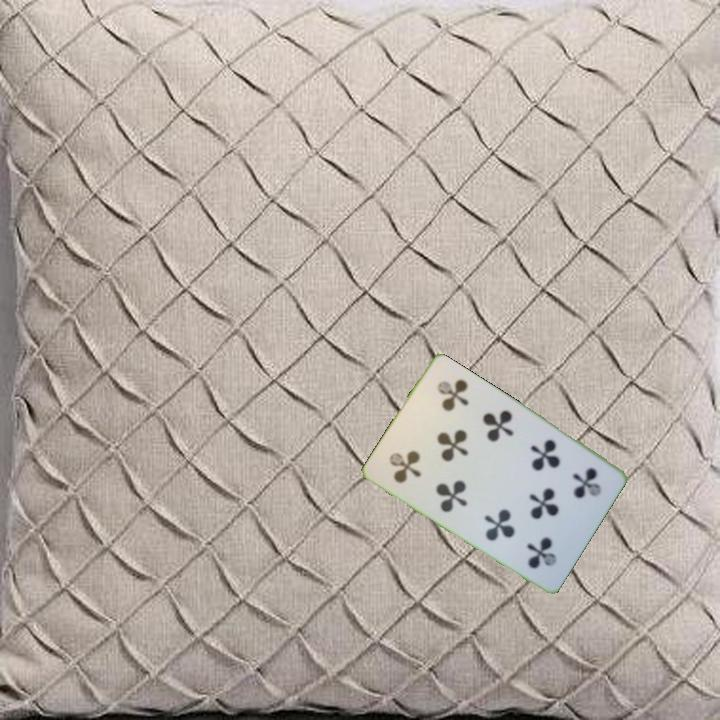c_10.png: (372, 416, 455, 501), (535, 446, 617, 531)
